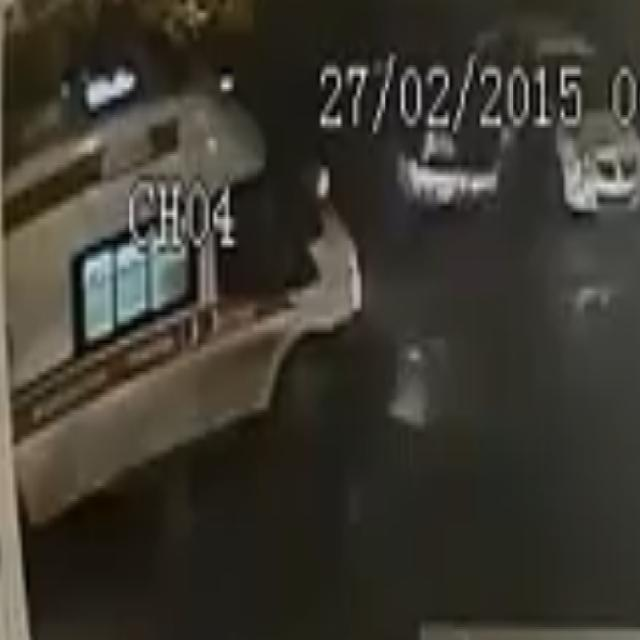ambulance: (1, 94, 364, 534)
